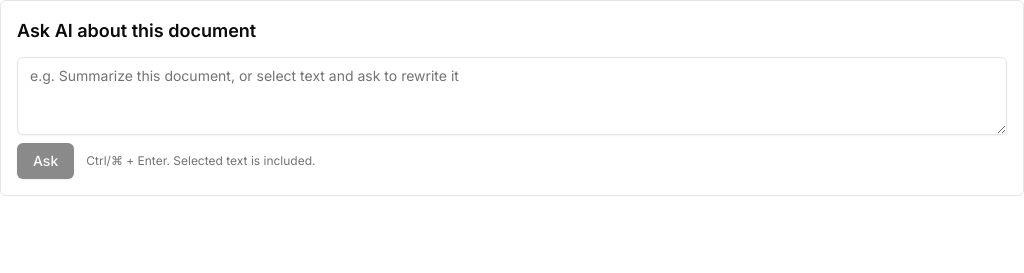
Test: sends the question with the document and shows the answer and sources
The width and height of the screenshot is (1024, 273).
Replace the text in the text box with "Summarize this" at (512, 96), box [17, 57, 1007, 135]
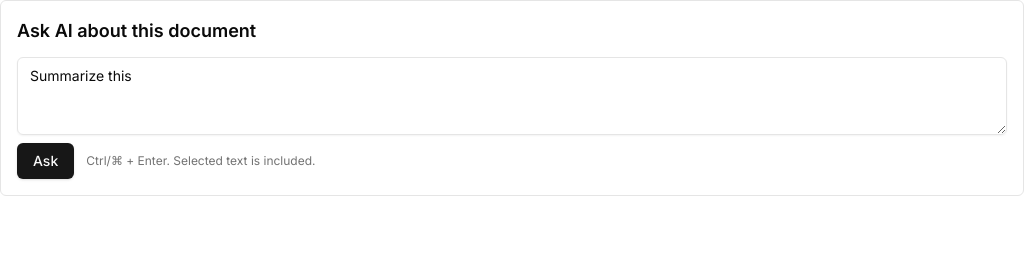
Click the button "Ask".
click(46, 161)  # box [17, 143, 74, 179]
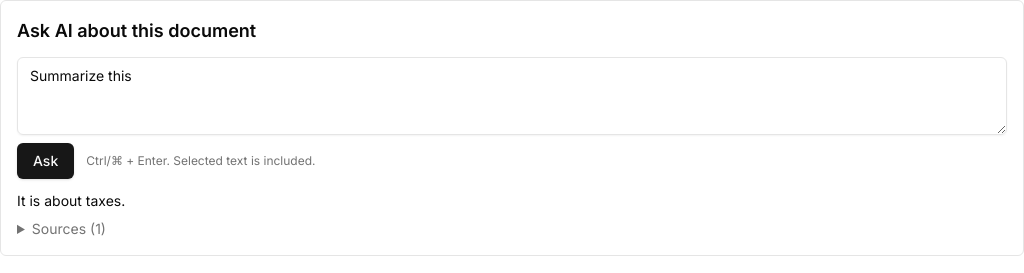
expect the text "It is about taxes." is shown: met, box [17, 192, 125, 209]
expect the heading "Sources (1)" is shown: met, box [32, 220, 106, 237]
